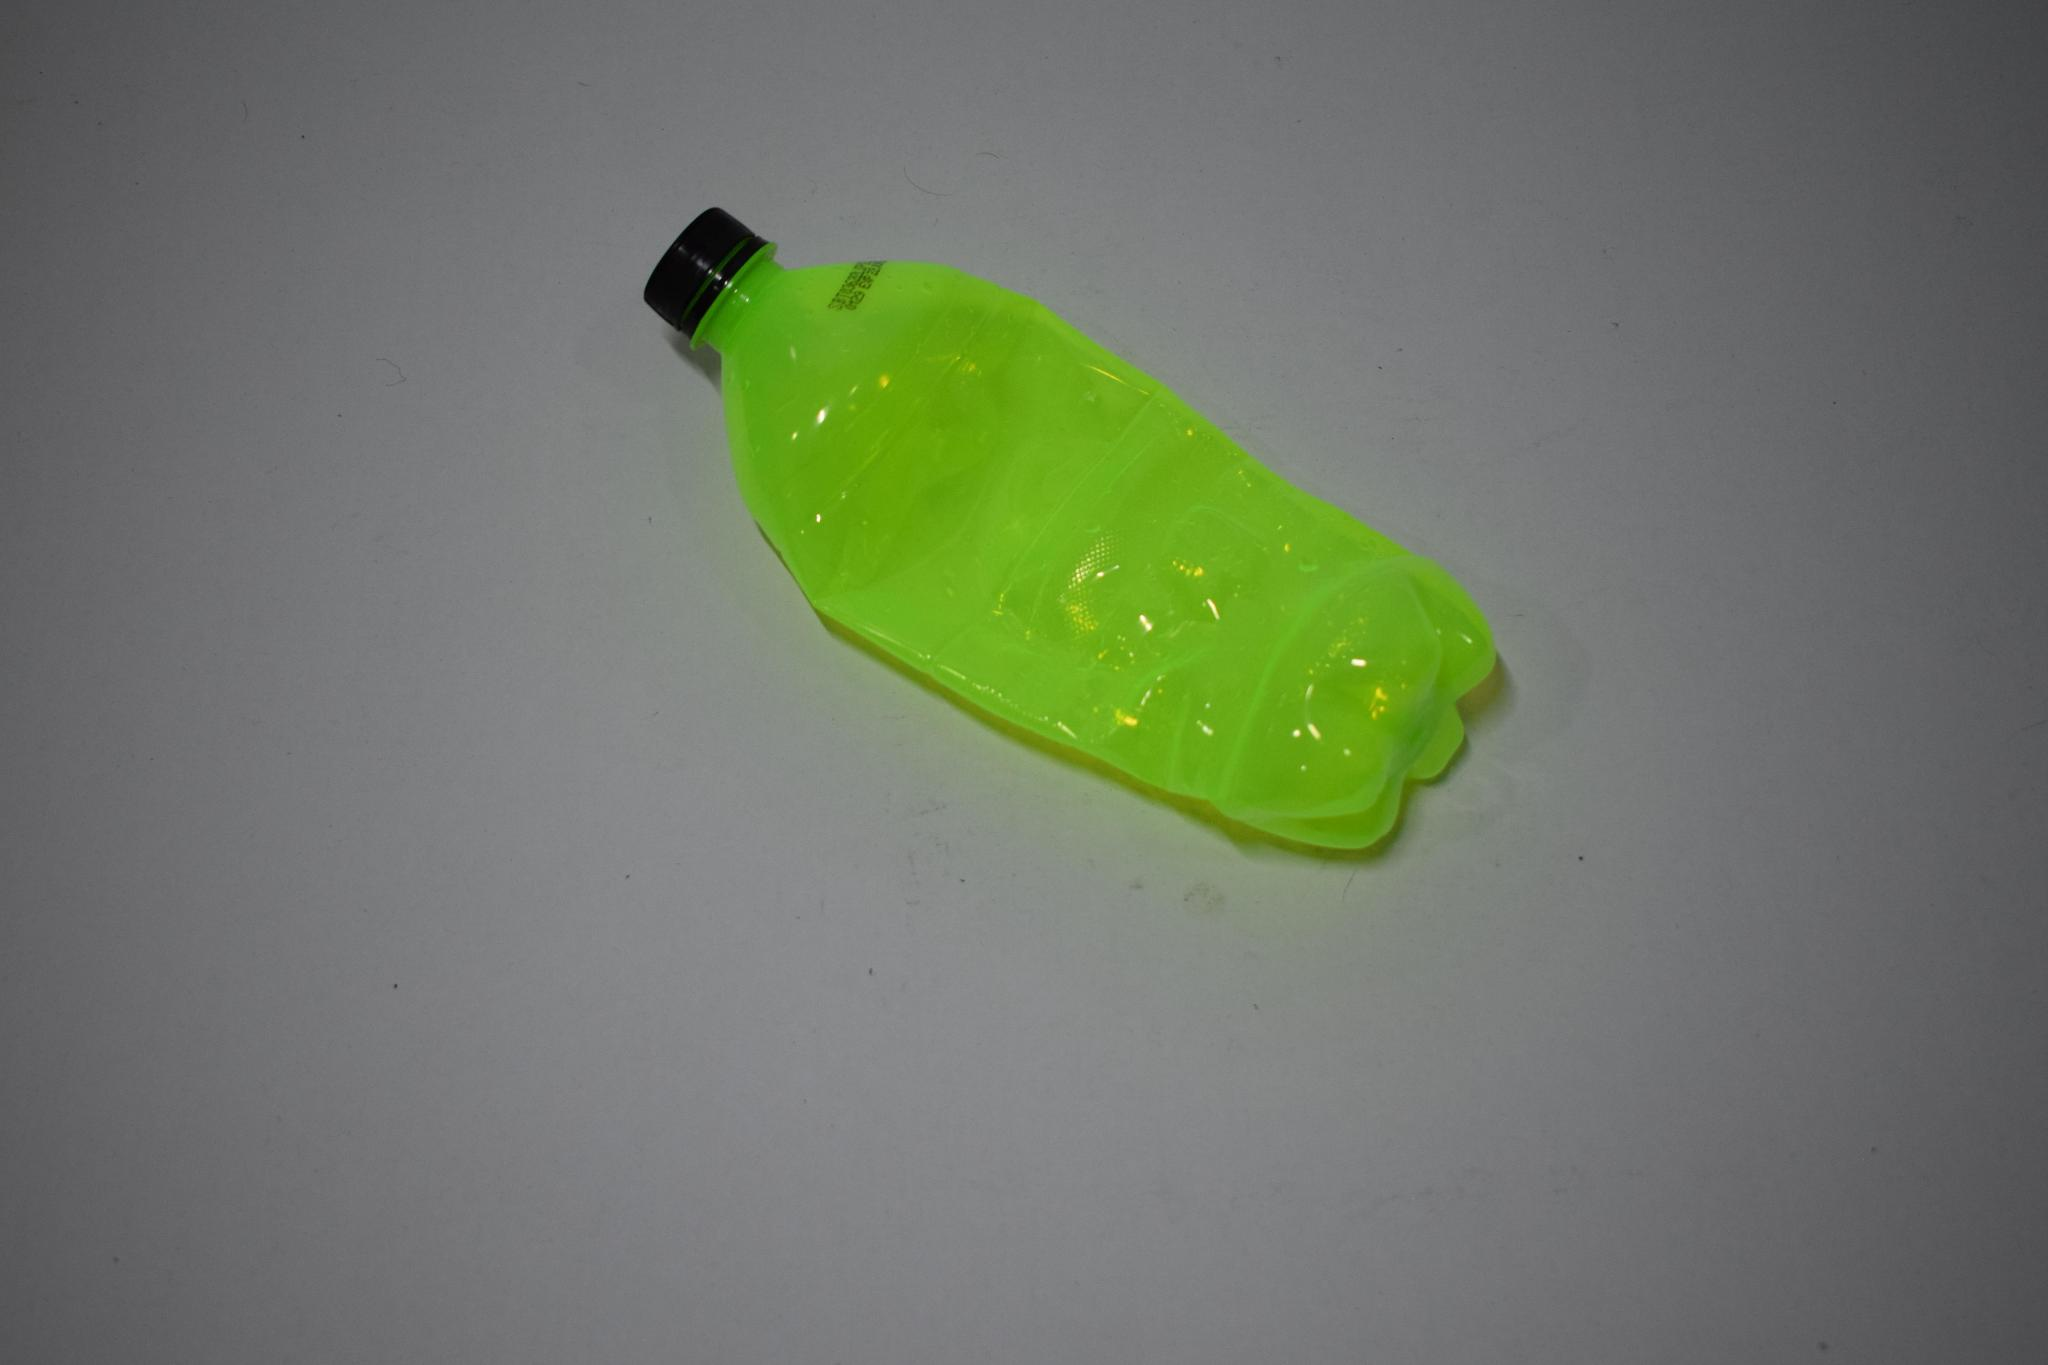bottle: (628, 150, 1624, 888)
